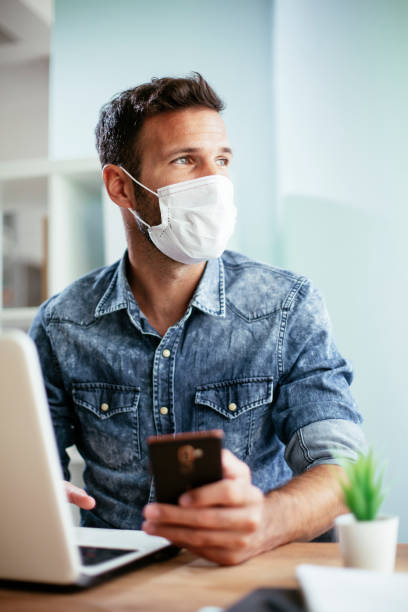with mask: (116, 100, 260, 266)
